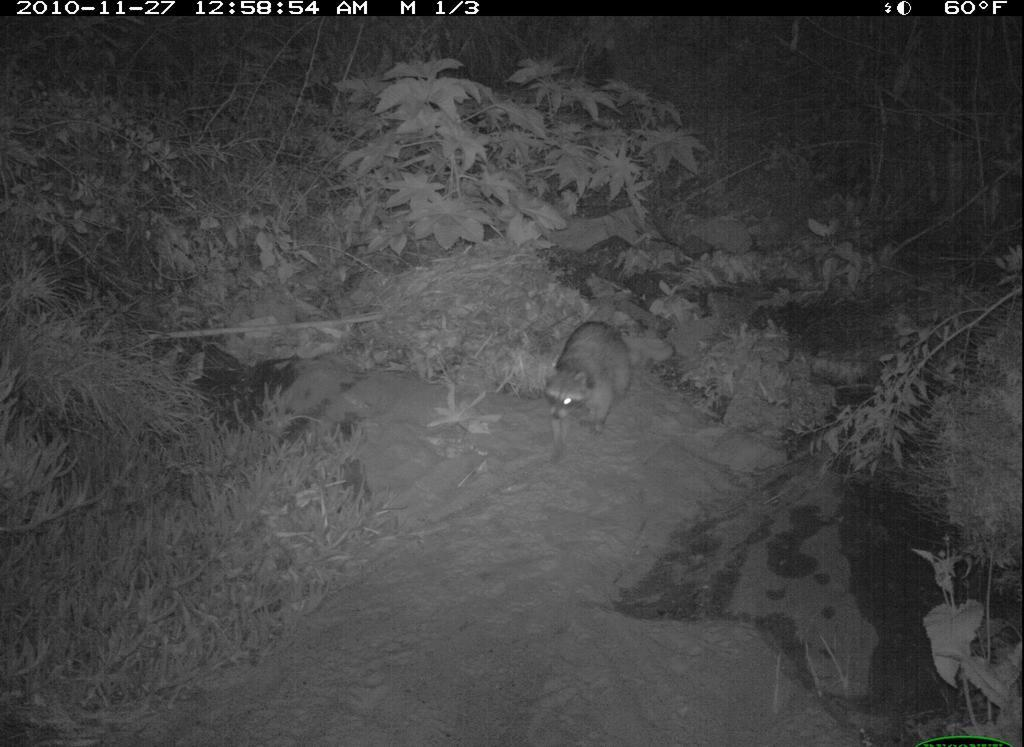raccoon: (545, 318, 635, 470)
